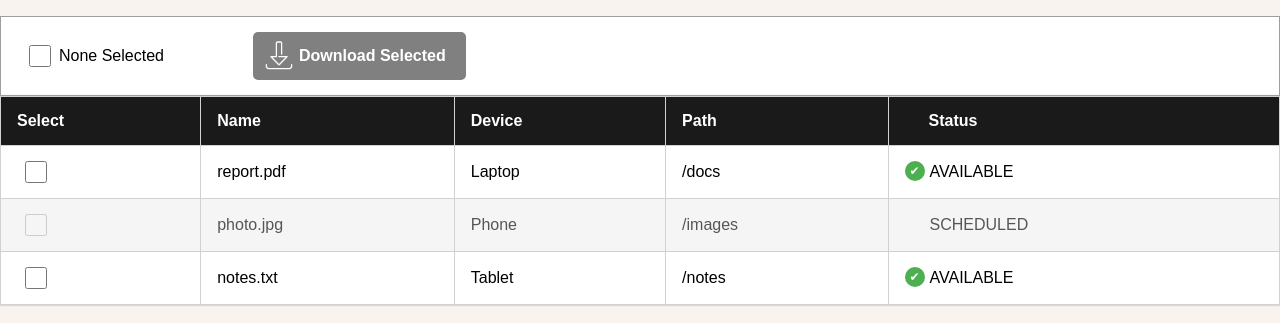
FileDownloader › enables download button when files are selected
The image size is (1280, 323).
Click the checkbox named "Select file: report.pdf".
click(36, 172)  # box [25,161,47,183]
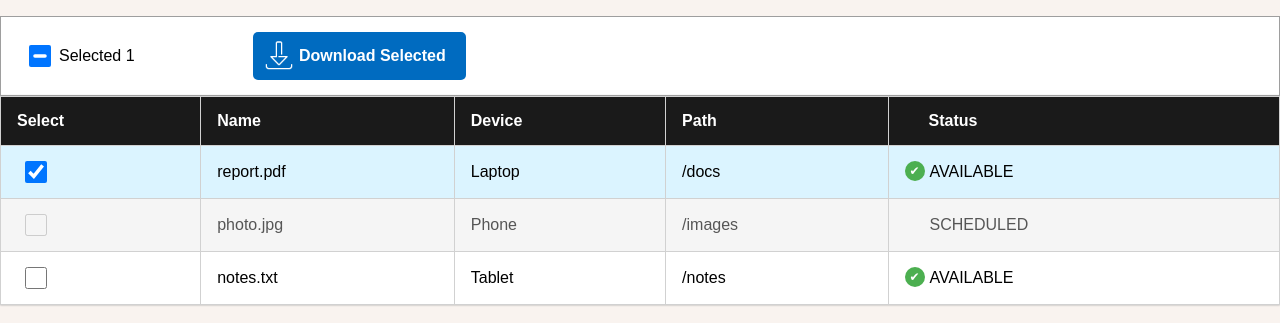
Check: the button "Download Selected" is enabled, box [253,32,466,80]
